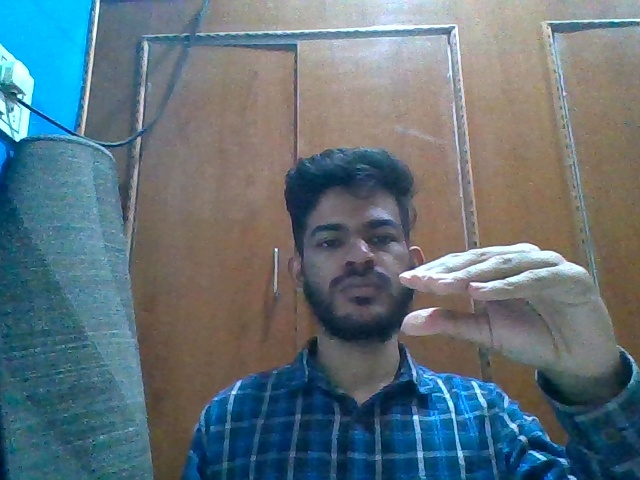no: (394, 239, 633, 380)
